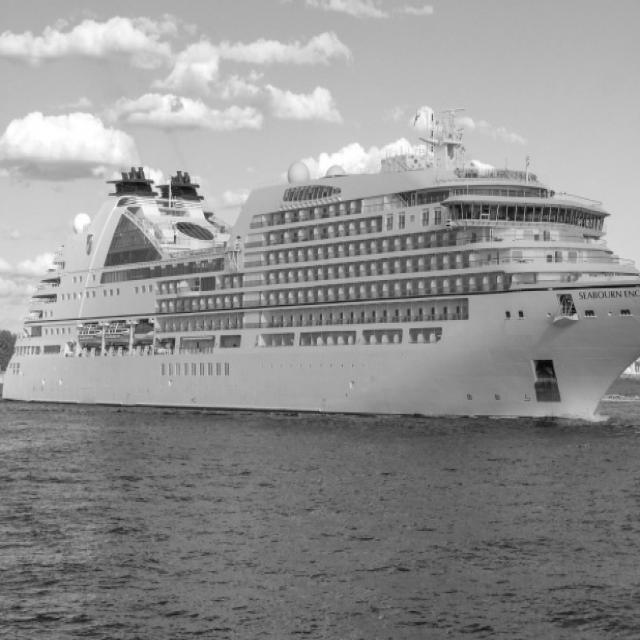cruises: (1, 106, 640, 445)
